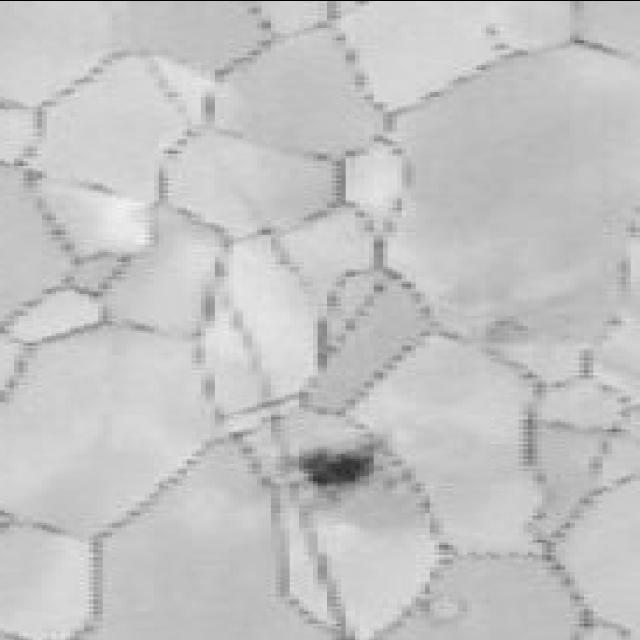good_void: (289, 443, 388, 491)
